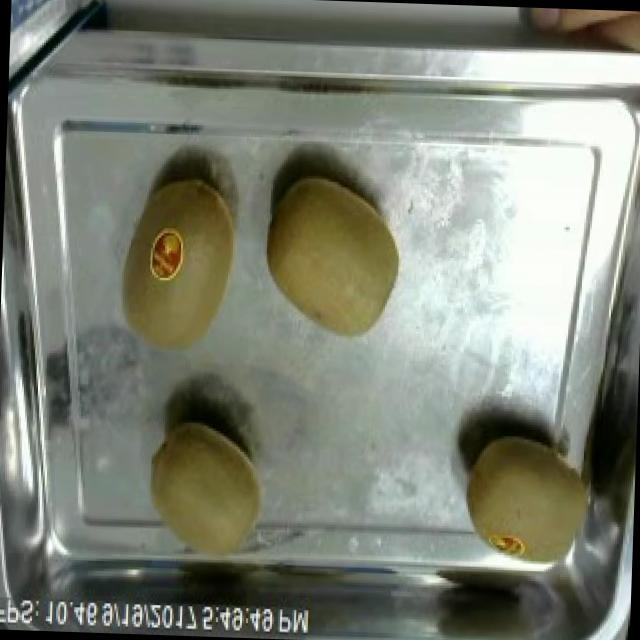Fruit: (255, 167, 411, 346), (106, 166, 248, 362), (453, 424, 602, 578), (142, 411, 272, 566)
